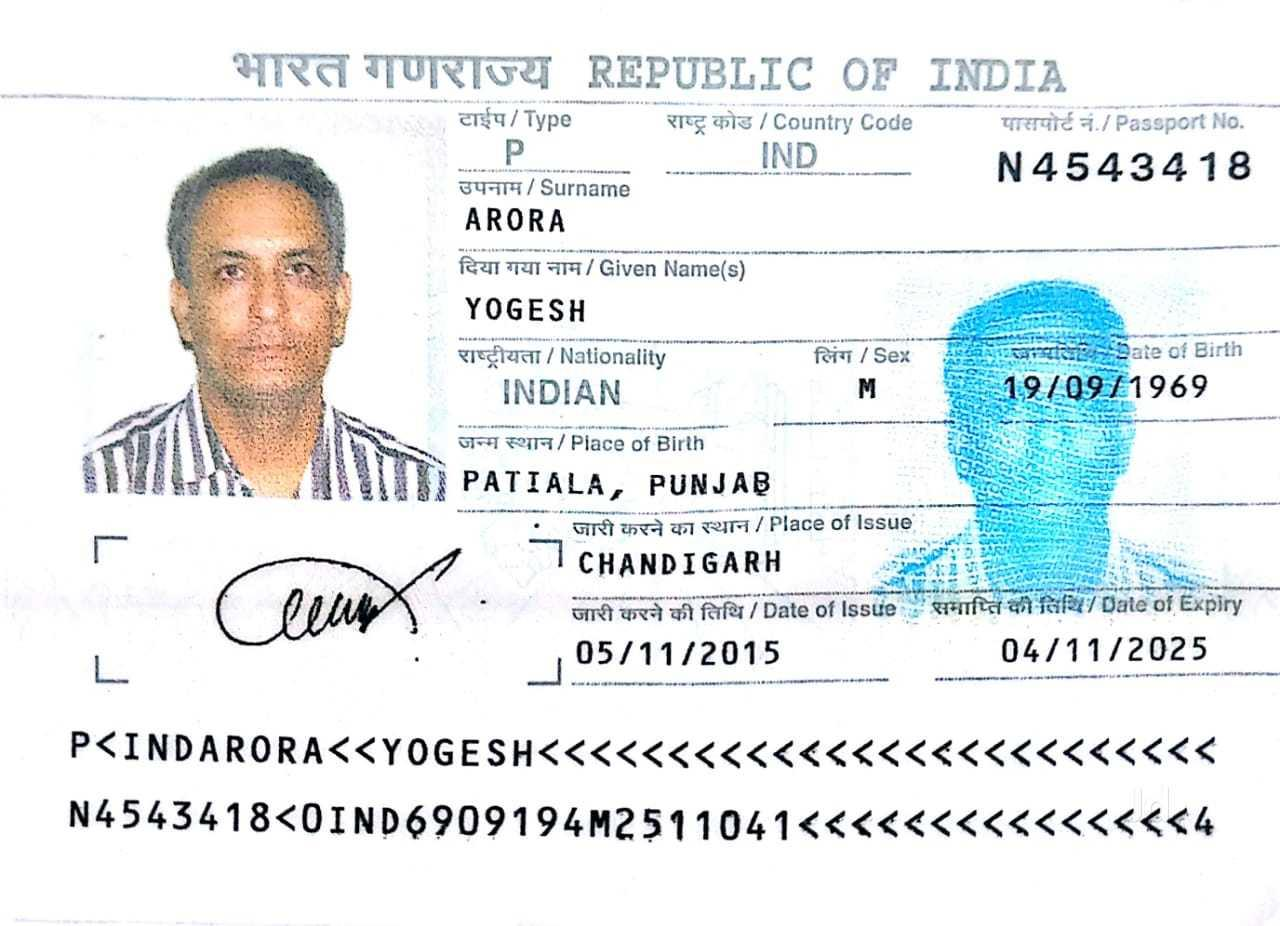DOB: (983, 363, 1222, 409)
Surname: (448, 188, 600, 255)
country_code: (747, 132, 825, 184)
date_of_expiry: (988, 628, 1226, 676)
date_of_issue: (570, 625, 792, 680)
details: (42, 713, 1239, 861)
name: (445, 267, 620, 340)
nationality: (490, 368, 636, 415)
passport_no: (990, 140, 1262, 202)
photo: (55, 115, 448, 505)
place_of_birth: (452, 448, 792, 510)
place_of_issue: (568, 537, 792, 588)
sex: (840, 365, 892, 412)
sign: (167, 538, 491, 662)
type: (480, 128, 539, 177)
